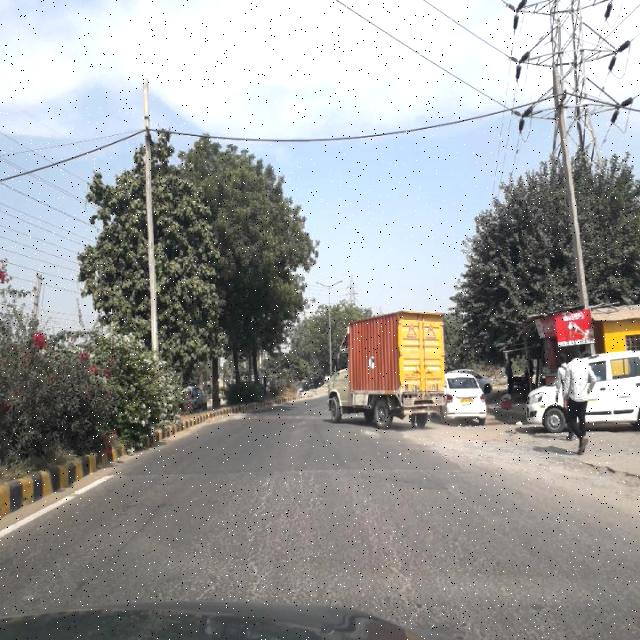D00: (207, 476, 298, 598), (355, 485, 446, 607)
